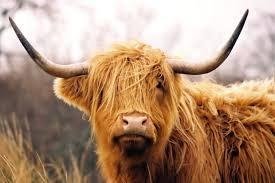cow: (53, 47, 275, 183)
